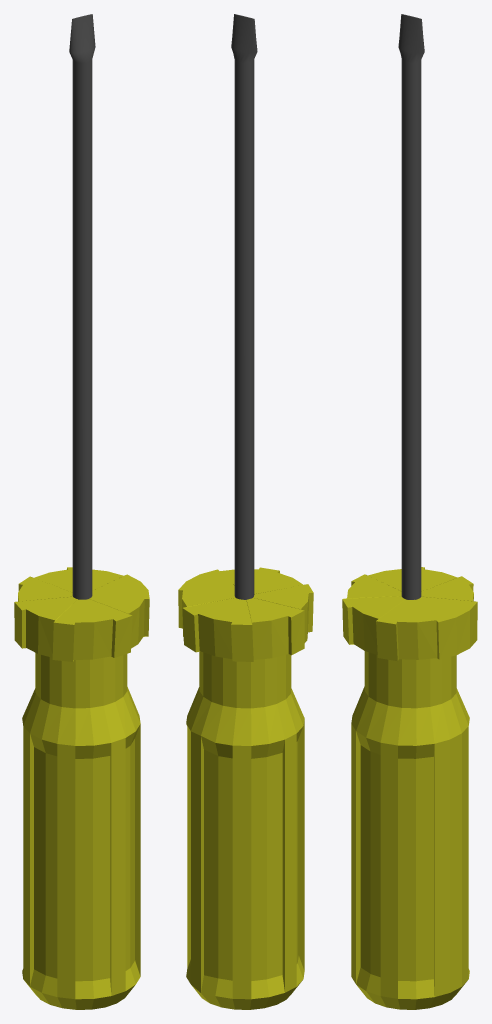
The model's file is screwDriver.fbx.
3 renders of one model, left to right at view 1: azimuth 30°, elevation 25°; view 2: azimuth 150°, elevation 25°; view 3: azimuth 330°, elevation 25°, orthographic.
Visible parts, largest first — view 1: pCylinder5, pCylinder6; view 2: pCylinder5, pCylinder6; view 3: pCylinder5, pCylinder6.
Boxes of the visible parts, x1,y1,x2,y2 form: pCylinder5: (14, 567, 149, 1009); pCylinder6: (69, 14, 95, 599); pCylinder5: (178, 567, 313, 1009); pCylinder6: (231, 14, 257, 599); pCylinder5: (342, 567, 477, 1009); pCylinder6: (398, 14, 424, 599).
Size of the model in its own units: 1.48 by 11.68 by 1.46.
